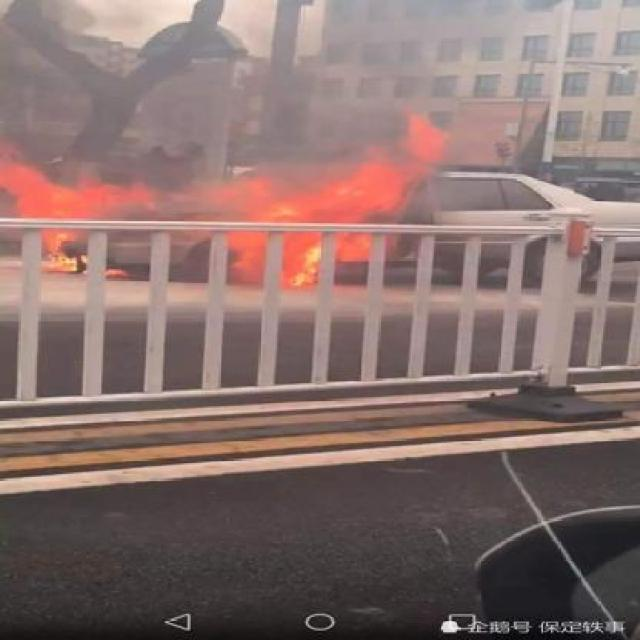Fire: (7, 143, 440, 287)
